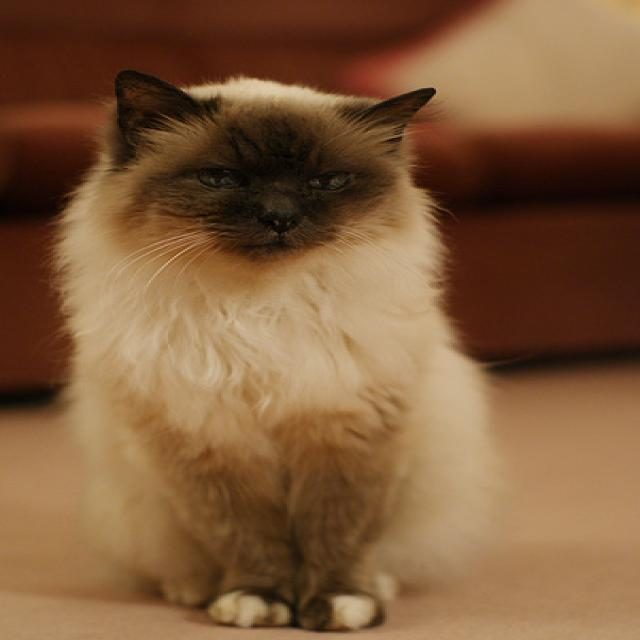Birman: (50, 67, 506, 636)
